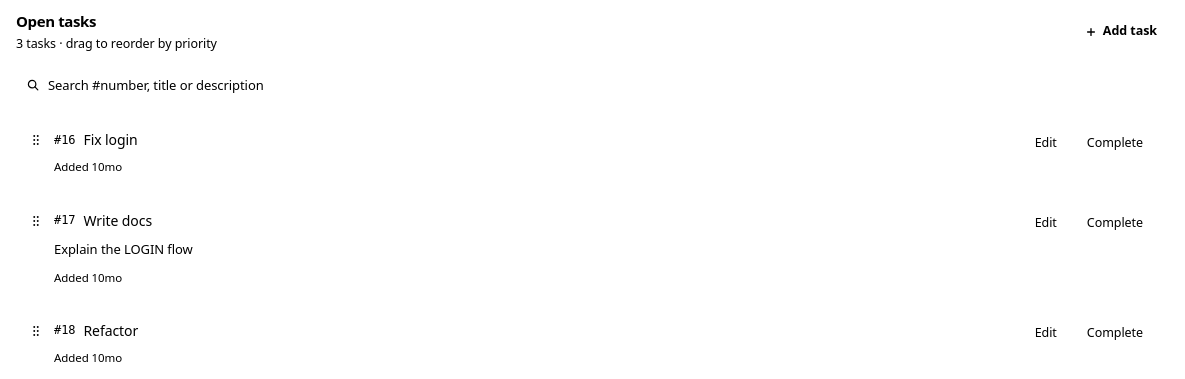
ProjectTaskManager › filters by title or description after a 300ms debounce and highlights matches
Type "login" into the search field named "Search tasks".
click(592, 85); type("login")  # box [16, 69, 1168, 101]
Wait 300 ms
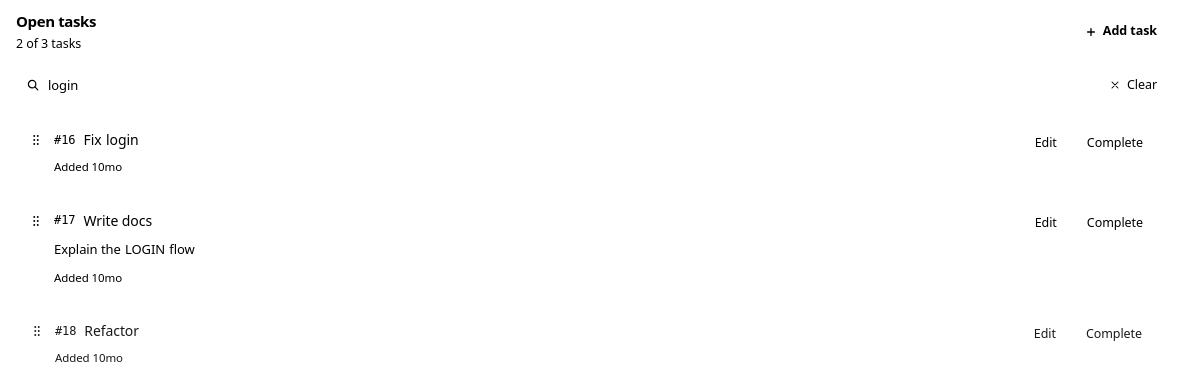
Expected: the text "2 of 3 tasks" is shown, [16, 34, 81, 52]
